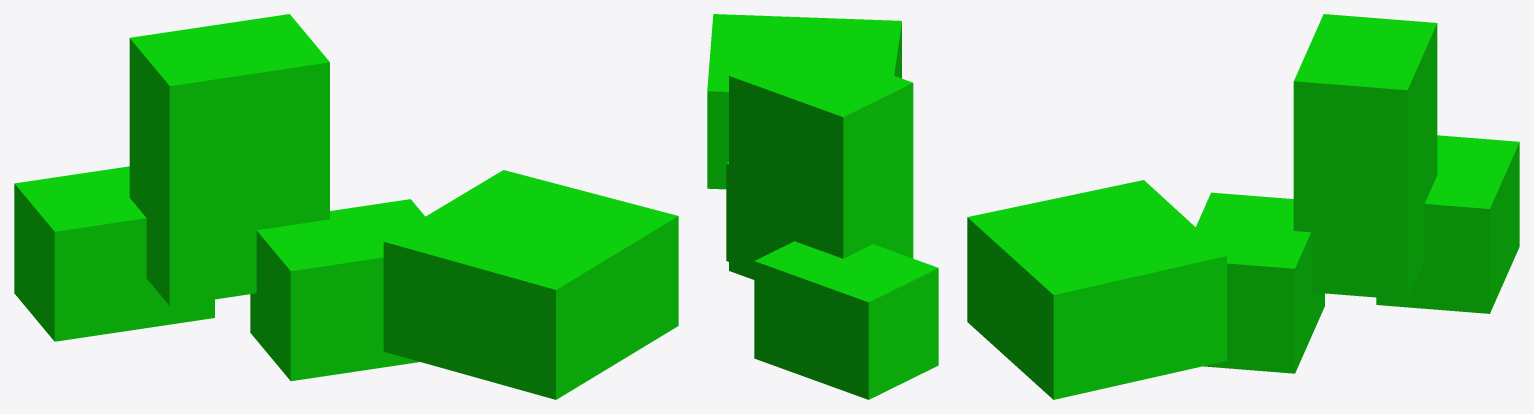
The model's file is island_3.fbx.
3 views of the same model, side by side, from view 1: azimuth 30°, elevation 25°; view 2: azimuth 150°, elevation 25°; view 3: azimuth 270°, elevation 25° (orthographic). The views are drawn at different scales.
Parts seen in each view (by area): view 1: Cube__9_; view 2: Cube__9_; view 3: Cube__9_.
Part boxes in pixels (x1,y1,x2,y2): Cube__9_: (14, 14, 678, 399); Cube__9_: (707, 14, 938, 399); Cube__9_: (967, 14, 1519, 399).
Bounding box in the file's own units: 2089 × 1226 × 2387.
1 material, 1 textured.
